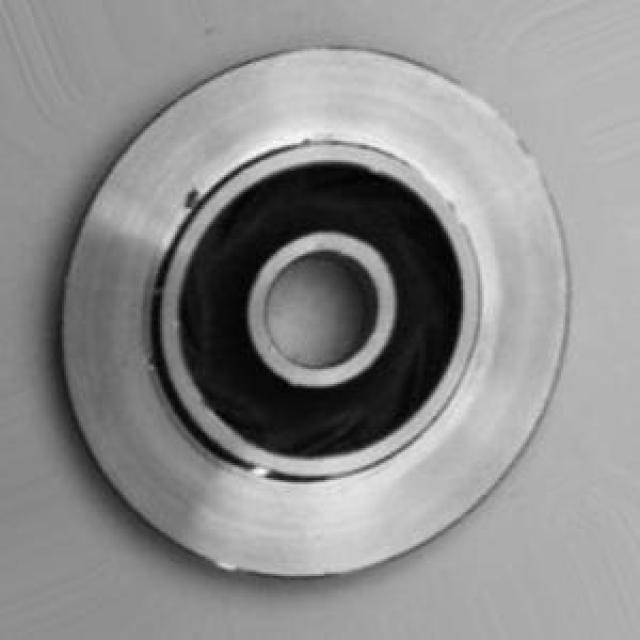Defect: (186, 184, 203, 215)
